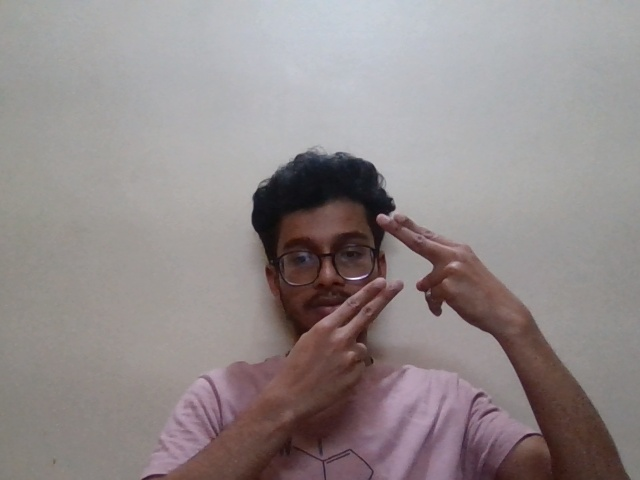my-name-is: (289, 208, 574, 400)
